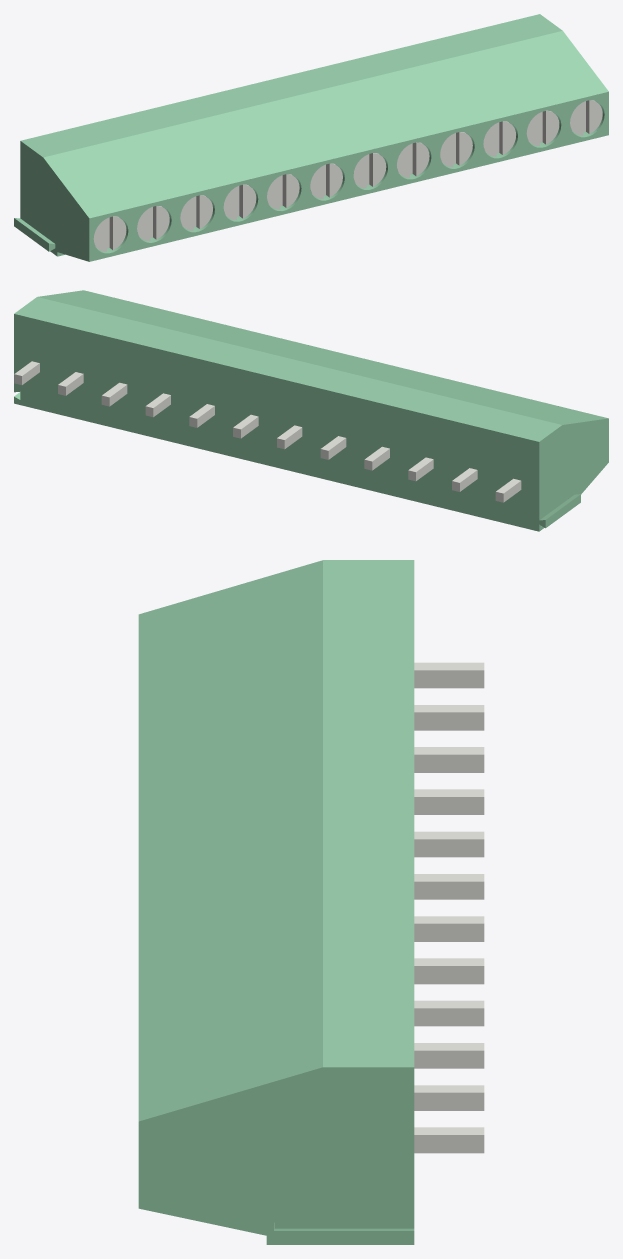
Rendered from TerminalBlock_Phoenix_MKDS-1,5-12_1x12_P5.00mm_Horizontal.glb.
3 renders of one model, top to bottom at view 1: azimuth 30°, elevation 25°; view 2: azimuth 150°, elevation 25°; view 3: azimuth 270°, elevation 25°, orthographic. The views are drawn at different scales.
Visible parts, largest first — view 1: Shape_IndexedFaceSet.003, Shape_IndexedFaceSet.004, Shape_IndexedFaceSet.002, Shape_IndexedFaceSet, Shape_IndexedFaceSet.367, Shape_IndexedFaceSet.337, Shape_IndexedFaceSet.407, Shape_IndexedFaceSet.351, Shape_IndexedFaceSet.377, Shape_IndexedFaceSet.417, Shape_IndexedFaceSet.421, Shape_IndexedFaceSet.327 (+13 smaller); view 2: Shape_IndexedFaceSet.005, Shape_IndexedFaceSet.004, Shape_IndexedFaceSet.003, Shape_IndexedFaceSet; view 3: Shape_IndexedFaceSet.003, Shape_IndexedFaceSet.004, Shape_IndexedFaceSet.011, Shape_IndexedFaceSet.059, Shape_IndexedFaceSet.035, Shape_IndexedFaceSet.039, Shape_IndexedFaceSet.043, Shape_IndexedFaceSet.047, Shape_IndexedFaceSet.051, Shape_IndexedFaceSet.055, Shape_IndexedFaceSet.063, Shape_IndexedFaceSet.067 (+4 smaller).
Part boxes in pixels (<box>): Shape_IndexedFaceSet.003: <box>43,30,608,218</box>; Shape_IndexedFaceSet.004: <box>20,14,562,157</box>; Shape_IndexedFaceSet.002: <box>89,91,608,261</box>; Shape_IndexedFaceSet: <box>20,141,89,261</box>; Shape_IndexedFaceSet.367: <box>502,121,515,154</box>; Shape_IndexedFaceSet.337: <box>199,195,212,228</box>; Shape_IndexedFaceSet.407: <box>329,163,342,196</box>; Shape_IndexedFaceSet.351: <box>267,176,280,209</box>; Shape_IndexedFaceSet.377: <box>459,132,472,165</box>; Shape_IndexedFaceSet.417: <box>589,100,602,133</box>; Shape_IndexedFaceSet.421: <box>570,102,583,135</box>; Shape_IndexedFaceSet.327: <box>156,206,169,239</box>; Shape_IndexedFaceSet.005: <box>14,314,545,531</box>; Shape_IndexedFaceSet.004: <box>14,297,561,441</box>; Shape_IndexedFaceSet.003: <box>38,290,607,424</box>; Shape_IndexedFaceSet: <box>539,418,608,531</box>; Shape_IndexedFaceSet.003: <box>138,560,322,1121</box>; Shape_IndexedFaceSet.004: <box>323,560,414,1067</box>; Shape_IndexedFaceSet.011: <box>138,1067,414,1244</box>; Shape_IndexedFaceSet.059: <box>414,712,484,730</box>; Shape_IndexedFaceSet.035: <box>414,839,484,857</box>; Shape_IndexedFaceSet.039: <box>414,881,484,899</box>; Shape_IndexedFaceSet.043: <box>414,1008,484,1026</box>; Shape_IndexedFaceSet.047: <box>414,966,484,984</box>; Shape_IndexedFaceSet.051: <box>414,923,484,941</box>; Shape_IndexedFaceSet.055: <box>414,754,484,772</box>; Shape_IndexedFaceSet.063: <box>414,1135,484,1153</box>; Shape_IndexedFaceSet.067: <box>414,1092,484,1110</box>.
Bounding box in the file's own units: 23.91 × 3.86 × 6.81.
